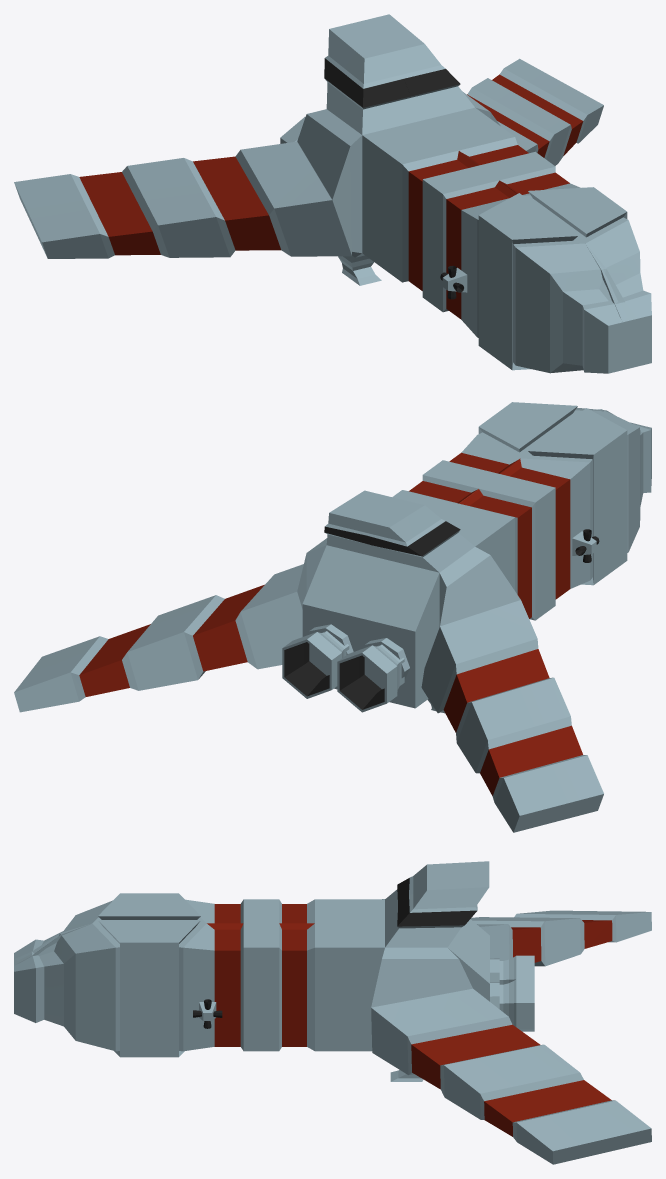
Rendered from spaceship3.glb.
The picture shows the model from 3 angles, top to bottom: view 1: azimuth 30°, elevation 25°; view 2: azimuth 150°, elevation 25°; view 3: azimuth 270°, elevation 25°; orthographic projection. The views are drawn at different scales.
Visible parts, largest first — view 1: Cube.001; view 2: Cube.001, mainThruster2, mainThruster1; view 3: Cube.001, mainThruster1, mainThruster2.
Boxes of the visible parts, x1,y1,x2,y2 form: Cube.001: [14, 14, 651, 373]; Cube.001: [14, 402, 651, 832]; mainThruster2: [337, 644, 404, 712]; mainThruster1: [282, 631, 349, 698]; Cube.001: [14, 861, 651, 1164]; mainThruster1: [499, 979, 534, 1031]; mainThruster2: [499, 955, 534, 984].
Bounding box in the file's own units: 9.96 × 3.55 × 11.15.
2 materials, 2 textured.
